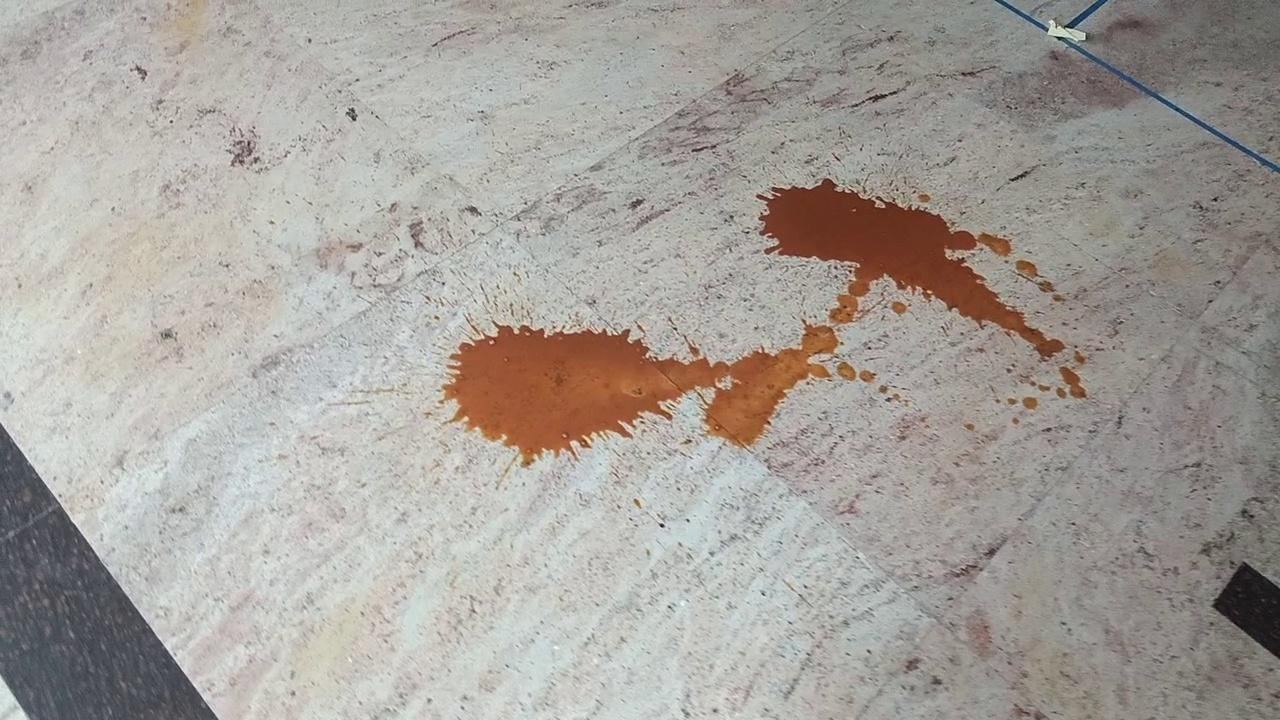dirty_floor: (451, 172, 1093, 459)
